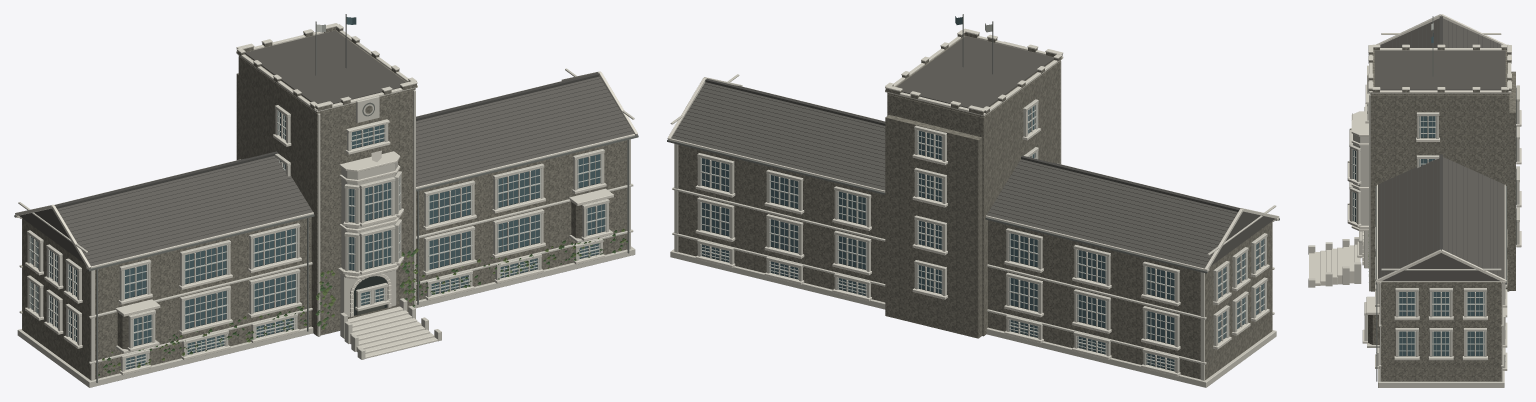
3 views of the same model, side by side, from view 1: azimuth 30°, elevation 25°; view 2: azimuth 150°, elevation 25°; view 3: azimuth 270°, elevation 25° (orthographic). The views are drawn at different scales.
Parts seen in each view (by area): view 1: wing_roof__roof, wing_structure__stone, tower_structure__stone, slate_courses__roofline, tower_roof_inset__roof, front_wing_left_windows__glass, front_wing_right_windows__glass, foundation__trim, front_wing_left_windows__trim, front_wing_right_windows__trim, entry_stair__trimlight, side_windows_estimated__trim (+38 smaller); view 2: wing_structure__stone, wing_roof__roof, tower_rear_structure__stone, rear_windows_estimated__glass, tower_structure__stone, rear_windows_estimated__trim, slate_courses__roofline, tower_roof_inset__roof, rear_windows_estimated__frame, rear_windows_estimated__trimlight, foundation__trim, wing_stringcourses__trim (+17 smaller); view 3: wing_roof__roof, tower_structure__stone, wing_structure__stone, tower_roof_inset__roof, slate_courses__roofline, side_windows_estimated__glass, side_windows_estimated__trim, entry_stair__trimlight, tower_rear_structure__stone, side_windows_estimated__frame, gable_copings__trimlight, tower_parapet_coping__trimlight (+25 smaller).
Part boxes in pixels (box(x1,y1,x2,y2)): wing_roof__roof: box(19, 76, 634, 266); wing_structure__stone: box(22, 140, 626, 379); tower_structure__stone: box(238, 57, 413, 336); slate_courses__roofline: box(54, 78, 632, 263); tower_roof_inset__roof: box(245, 30, 405, 104); front_wing_left_windows__glass: box(125, 228, 295, 328); front_wing_right_windows__glass: box(429, 154, 599, 269); foundation__trim: box(17, 246, 635, 387); front_wing_left_windows__trim: box(119, 223, 300, 331); front_wing_right_windows__trim: box(424, 149, 604, 271); entry_stair__trimlight: box(348, 306, 437, 358); side_windows_estimated__trim: box(27, 230, 81, 345); wing_structure__stone: box(678, 144, 1272, 379); wing_roof__roof: box(671, 82, 1274, 268); tower_rear_structure__stone: box(885, 115, 982, 338); rear_windows_estimated__glass: box(702, 158, 1174, 370); tower_structure__stone: box(887, 62, 1060, 336); rear_windows_estimated__trim: box(697, 153, 1179, 373); slate_courses__roofline: box(673, 84, 1240, 265); tower_roof_inset__roof: box(897, 36, 1053, 108); rear_windows_estimated__frame: box(700, 158, 1175, 371); rear_windows_estimated__trimlight: box(695, 185, 1180, 376); foundation__trim: box(670, 249, 1276, 387); wing_stringcourses__trim: box(672, 187, 1274, 364); wing_roof__roof: box(1378, 18, 1504, 281); tower_structure__stone: box(1370, 95, 1509, 291); wing_structure__stone: box(1381, 282, 1501, 381); tower_roof_inset__roof: box(1374, 50, 1505, 90); slate_courses__roofline: box(1381, 19, 1497, 277); side_windows_estimated__glass: box(1399, 292, 1484, 355); side_windows_estimated__trim: box(1395, 288, 1486, 356); entry_stair__trimlight: box(1309, 244, 1360, 285); tower_rear_structure__stone: box(1509, 71, 1515, 290); side_windows_estimated__frame: box(1398, 292, 1484, 356); gable_copings__trimlight: box(1375, 14, 1506, 282); tower_parapet_coping__trimlight: box(1369, 48, 1511, 93).
Size of the model in its own units: 50.98 by 24.85 by 19.37.
Materials: 12 (1 with a texture image).
